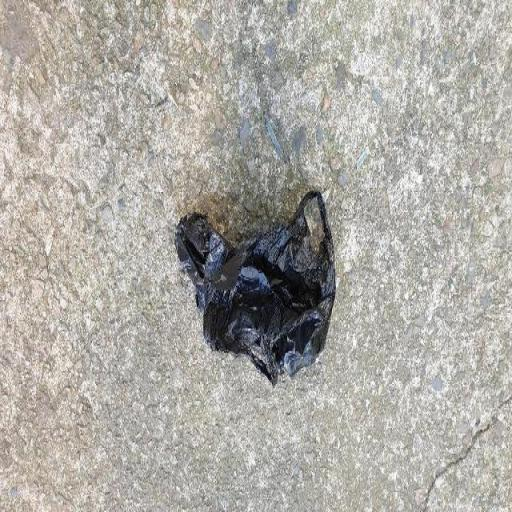plastic-bag: (173, 188, 336, 391)
